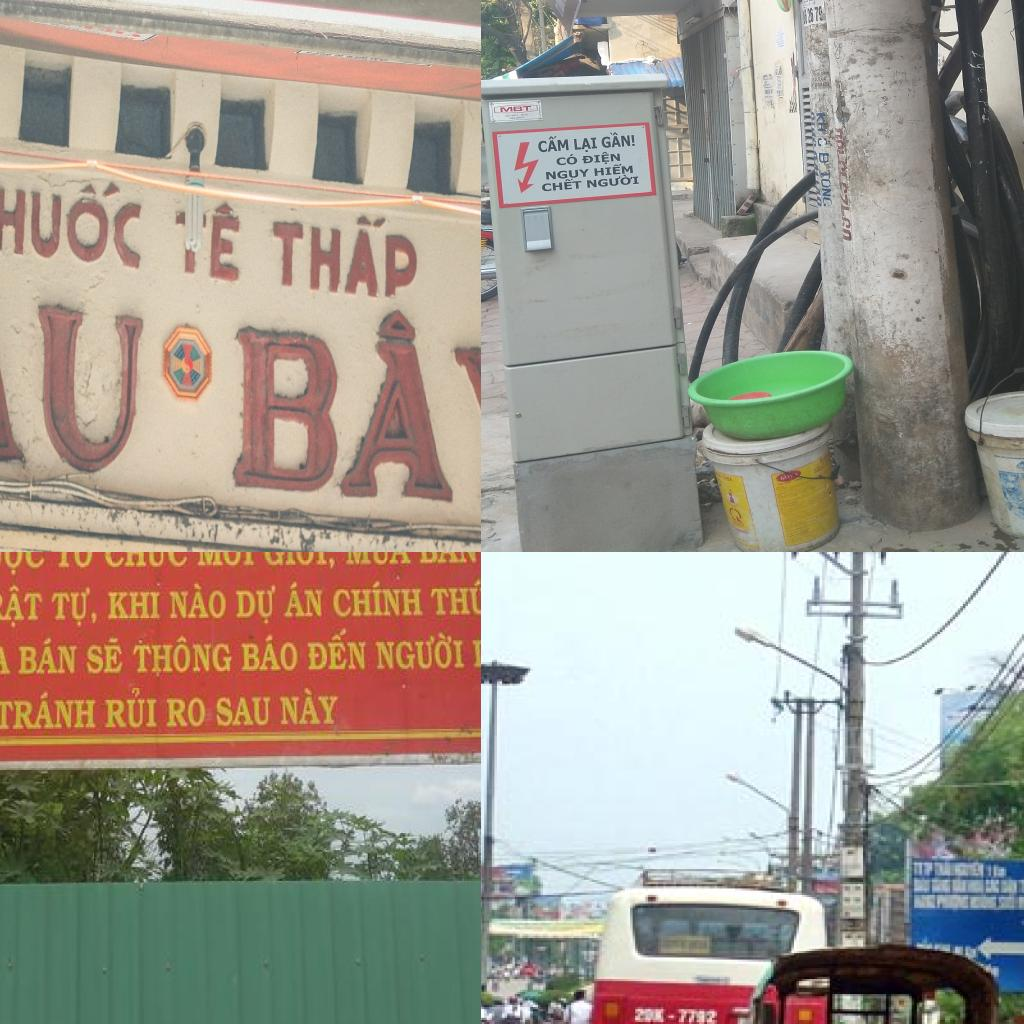text: (230, 299, 481, 517), (0, 237, 148, 484), (0, 164, 145, 276), (270, 206, 422, 306), (131, 635, 234, 680), (0, 688, 99, 734), (374, 630, 466, 673), (332, 580, 426, 622), (208, 198, 242, 286), (239, 630, 301, 678), (167, 580, 230, 625), (307, 628, 368, 674), (103, 686, 161, 734), (16, 635, 77, 680), (48, 584, 100, 632), (429, 576, 481, 621), (0, 582, 45, 633), (213, 693, 273, 731), (106, 589, 164, 625), (235, 582, 280, 628), (281, 577, 327, 621), (84, 635, 126, 680), (102, 552, 191, 573), (163, 695, 209, 732), (263, 552, 337, 573), (0, 552, 48, 578), (196, 552, 257, 571), (343, 552, 415, 568), (416, 552, 480, 568), (53, 552, 96, 573), (586, 173, 640, 189), (600, 131, 637, 149), (581, 150, 622, 166), (540, 178, 583, 193), (592, 162, 634, 177), (544, 168, 590, 181), (538, 135, 570, 153), (820, 169, 833, 207), (574, 137, 600, 153), (555, 153, 579, 167), (500, 105, 532, 113), (804, 6, 818, 24), (816, 112, 827, 132), (818, 152, 830, 164), (817, 137, 829, 148), (509, 116, 525, 120), (780, 474, 790, 480), (724, 476, 734, 482), (821, 76, 827, 81), (511, 114, 518, 117), (808, 0, 818, 2), (521, 114, 529, 116), (505, 115, 511, 117)
